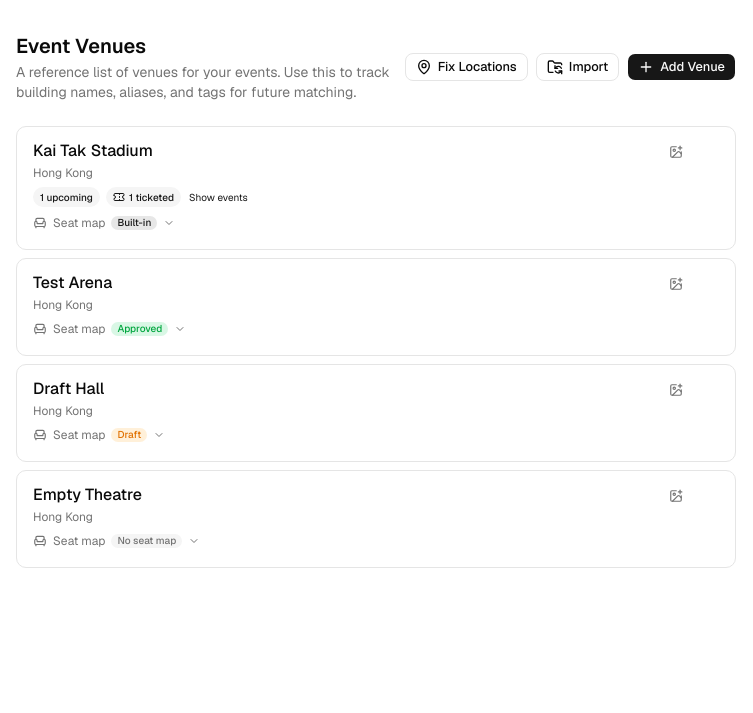
Test: venue seat-map panel › approve PUTs status approved and updates the chip
The image size is (753, 713).
Expected: the text "Draft Hall" is shown, 33,378 -> 104,399
Click the button "Seat map Draft" at (99, 435), box 29,425 -> 169,445
(page scrolled)
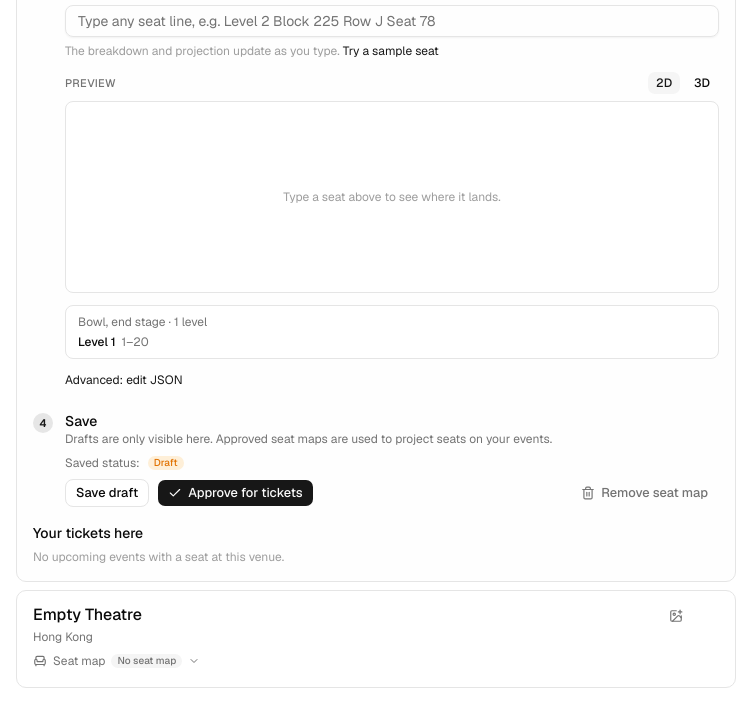
Click the button "Approve for tickets" at (235, 493), box 157,479 -> 314,507
(page scrolled)
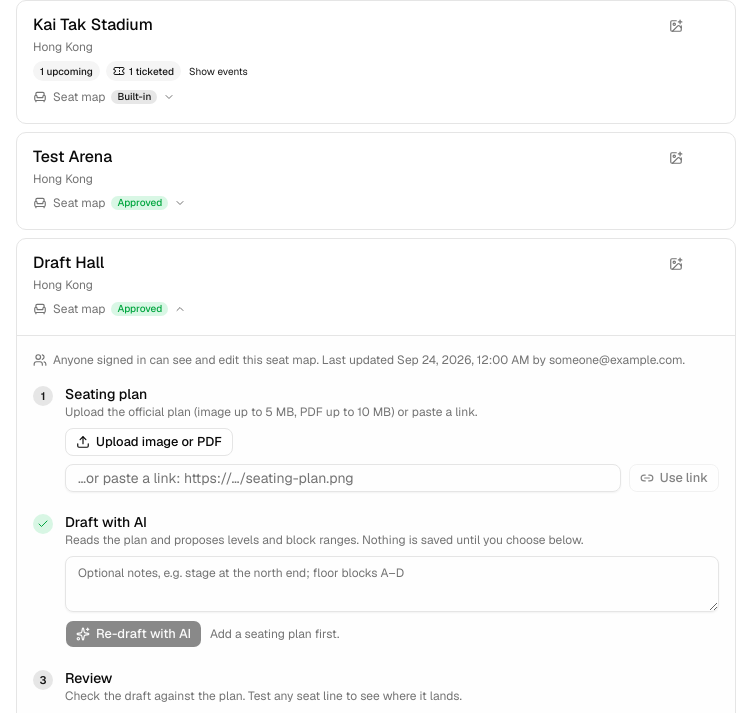
Now the text "by someone@example.com" is shown, box 530,352 -> 682,368
